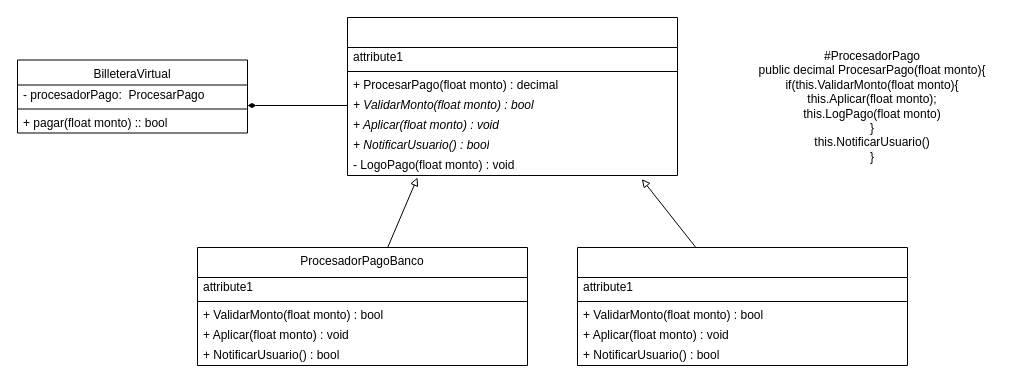
Image size: 1015x383. Some labels were removed from this diagram. Here are the shapes that lost their labels. From the top down, the box of each, then its label:
(346, 16, 678, 176): ProcesadorPago
(576, 246, 908, 366): ProcesadorPagoMercadoPago
